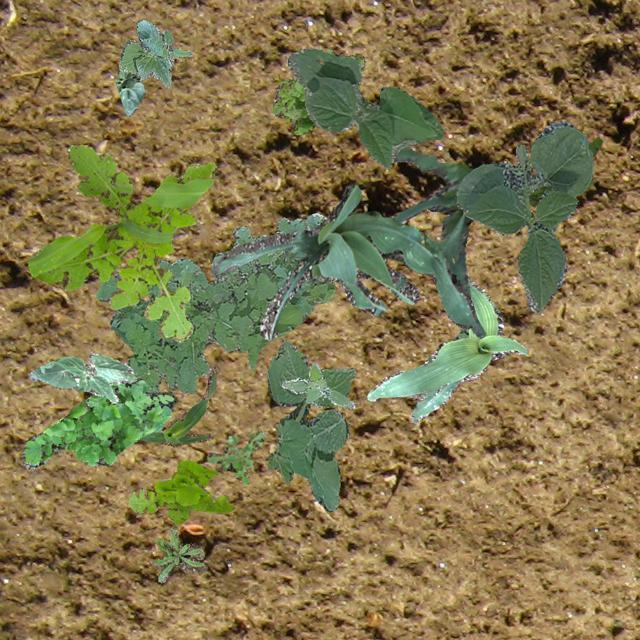crop: (215, 182, 474, 340), (456, 120, 592, 312), (366, 278, 526, 422), (286, 48, 442, 168), (390, 146, 484, 336), (138, 364, 218, 446), (28, 352, 136, 402), (118, 18, 192, 86), (115, 68, 144, 116)
weed: (95, 212, 334, 392), (27, 144, 215, 340), (266, 338, 356, 511), (21, 376, 176, 469), (272, 48, 364, 134), (128, 459, 232, 524), (528, 137, 600, 206), (280, 362, 354, 408), (150, 528, 206, 582), (206, 430, 264, 482)
